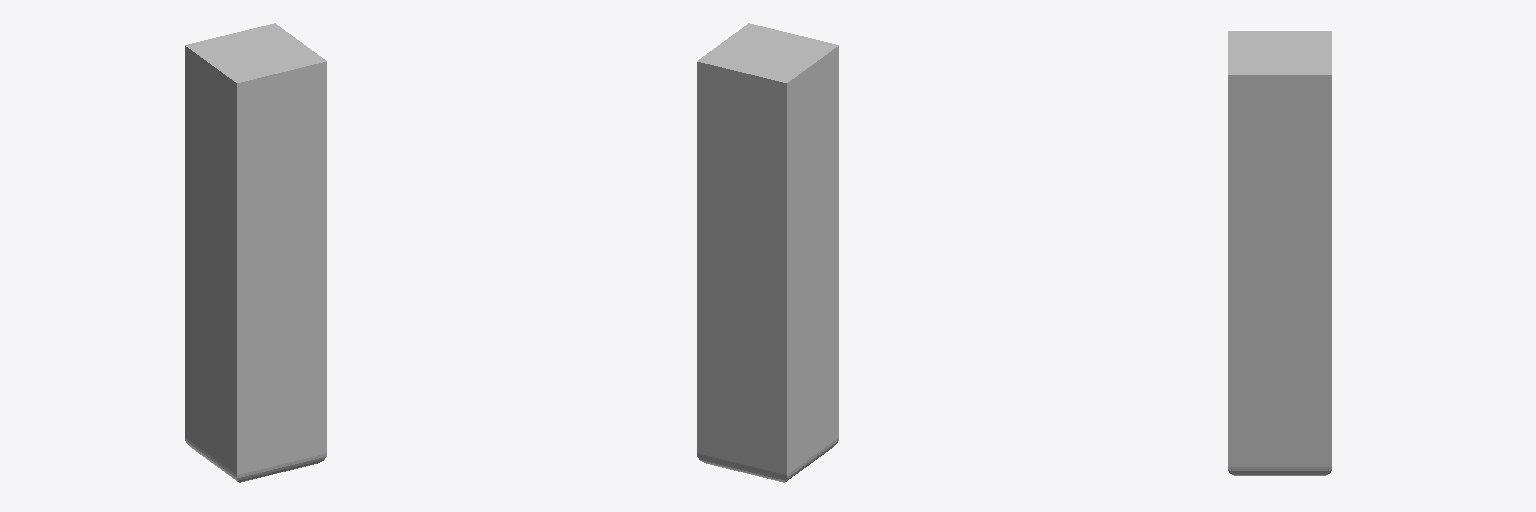
Rendered from original-78.obj.
The picture shows the model from 3 angles: view 1: azimuth 30°, elevation 25°; view 2: azimuth 150°, elevation 25°; view 3: azimuth 270°, elevation 25°; orthographic projection.
Visible parts, largest first — view 1: Group71/mesh135/mesh135-geometry#mesh135-geometry; view 2: Group71/mesh135/mesh135-geometry#mesh135-geometry; view 3: Group71/mesh135/mesh135-geometry#mesh135-geometry.
Boxes of the visible parts, <box> form: Group71/mesh135/mesh135-geometry#mesh135-geometry: <box>185,23,326,482</box>; Group71/mesh135/mesh135-geometry#mesh135-geometry: <box>697,23,838,482</box>; Group71/mesh135/mesh135-geometry#mesh135-geometry: <box>1228,31,1331,475</box>.
Bounding box in the file's own units: 0.0401 × 0.1718 × 0.0401.